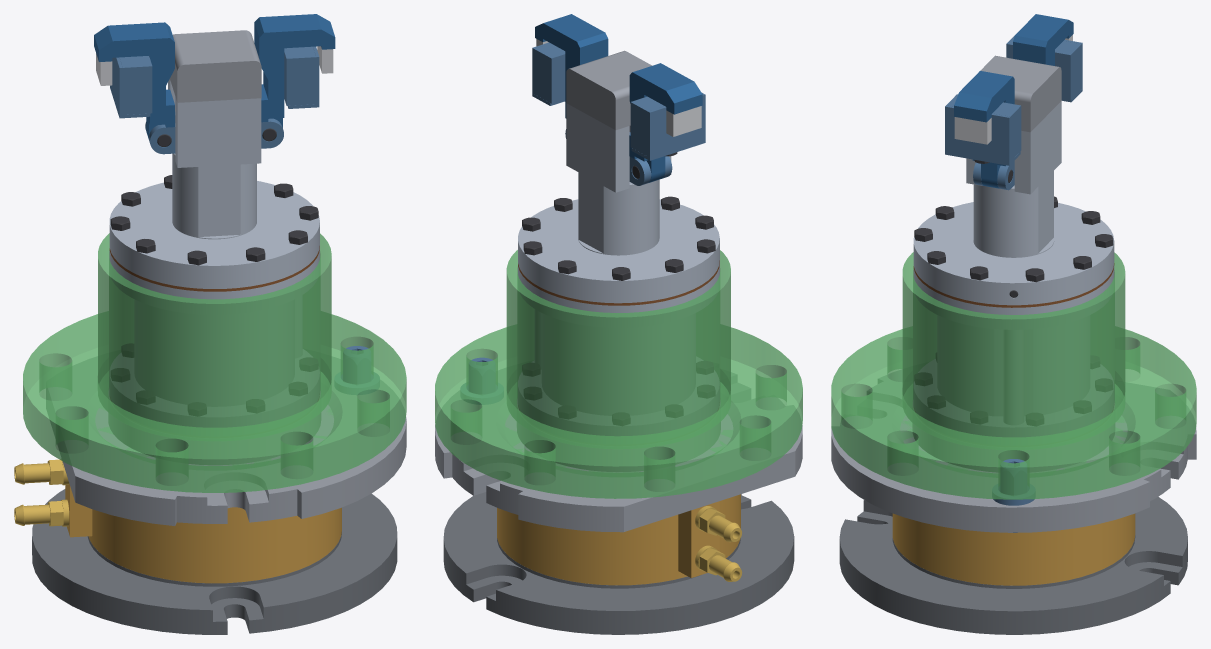
The model's file is model_rot22.glb.
3 views of the same model, side by side, from view 1: azimuth 30°, elevation 25°; view 2: azimuth 150°, elevation 25°; view 3: azimuth 270°, elevation 25° (orthographic). The views are drawn at different scales.
Visible parts, largest first — view 1: flanec_17, stakan_zagotovka, korpus_15, kryshka_11, gilza_18, plita, vtulka_16, kolodka, rychag_5_R, rychag_5_L, korpus_fiks_R, korpus_fiks_L (+6 smaller); view 2: flanec_17, stakan_zagotovka, korpus_15, plita, gilza_18, kryshka_11, vtulka_16, kolodka, rychag_5_L, rychag_5_R, skoba_8_L, korpus_fiks_R (+7 smaller); view 3: flanec_17, stakan_zagotovka, korpus_15, plita, kryshka_11, gilza_18, vtulka_16, kolodka, rychag_5_R, rychag_5_L, skoba_8_R, trubka_13 (+6 smaller).
Part boxes in pixels (x1=…): flanec_17: x1=23, y1=311, x2=406, y2=492; stakan_zagotovka: x1=98, y1=233, x2=331, y2=440; korpus_15: x1=46, y1=356, x2=406, y2=525; kryshka_11: x1=109, y1=79, x2=319, y2=288; gilza_18: x1=109, y1=248, x2=319, y2=426; plita: x1=32, y1=489, x2=397, y2=634; vtulka_16: x1=65, y1=483, x2=341, y2=583; kolodka: x1=170, y1=30, x2=261, y2=102; rychag_5_R: x1=254, y1=14, x2=335, y2=127; rychag_5_L: x1=94, y1=22, x2=174, y2=139; korpus_fiks_R: x1=284, y1=46, x2=316, y2=105; korpus_fiks_L: x1=119, y1=56, x2=152, y2=114; flanec_17: x1=435, y1=325, x2=802, y2=498; stakan_zagotovka: x1=506, y1=250, x2=730, y2=448; korpus_15: x1=435, y1=368, x2=802, y2=532; plita: x1=443, y1=492, x2=794, y2=634; gilza_18: x1=518, y1=263, x2=719, y2=435; kryshka_11: x1=518, y1=103, x2=719, y2=303; vtulka_16: x1=497, y1=494, x2=740, y2=585; kolodka: x1=566, y1=50, x2=651, y2=130; rychag_5_L: x1=629, y1=63, x2=702, y2=182; rychag_5_R: x1=535, y1=14, x2=608, y2=118; skoba_8_L: x1=631, y1=93, x2=705, y2=160; korpus_fiks_R: x1=534, y1=43, x2=565, y2=103; flanec_17: x1=831, y1=327, x2=1196, y2=499; stakan_zagotovka: x1=902, y1=252, x2=1125, y2=449; korpus_15: x1=831, y1=370, x2=1196, y2=532; plita: x1=839, y1=496, x2=1187, y2=634; kryshka_11: x1=913, y1=101, x2=1114, y2=305; gilza_18: x1=913, y1=266, x2=1114, y2=436; vtulka_16: x1=892, y1=513, x2=1135, y2=585; kolodka: x1=980, y1=55, x2=1061, y2=132; rychag_5_R: x1=954, y1=71, x2=1014, y2=188; rychag_5_L: x1=1013, y1=14, x2=1073, y2=65; skoba_8_R: x1=945, y1=105, x2=1020, y2=165; trubka_13: x1=1004, y1=330, x2=1023, y2=424.
Size of the model in its own units: 210 by 320 by 210.
